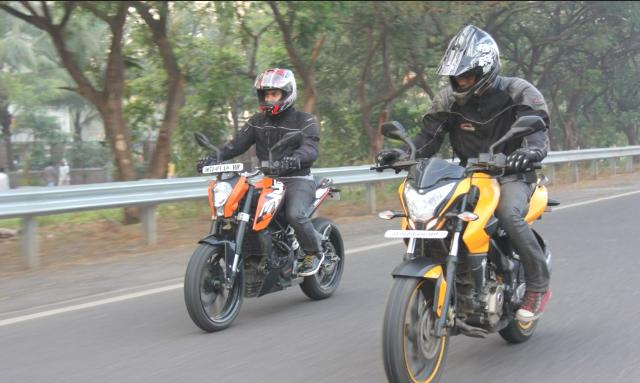licensePlate: (381, 228, 453, 243), (194, 163, 247, 176)
motorcycle: (370, 18, 542, 383), (178, 64, 340, 332)
withHelmet: (437, 24, 501, 106), (246, 72, 300, 121)
